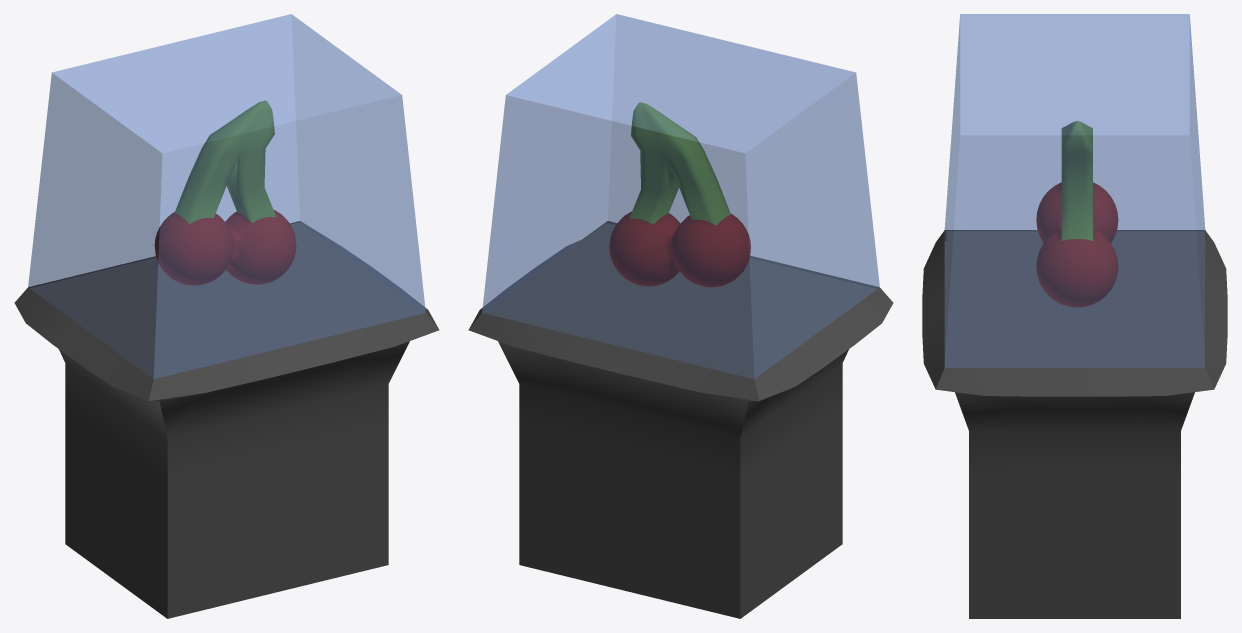
The model's file is CerezaCaja.fbx.
The picture shows the model from 3 angles, left to right: view 1: azimuth 30°, elevation 25°; view 2: azimuth 150°, elevation 25°; view 3: azimuth 270°, elevation 25°; orthographic projection. The views are drawn at different scales.
Parts seen in each view (by area): view 1: Box001, Plane001, Sphere001; view 2: Box001, Plane001, Sphere001; view 3: Box001, Plane001, Sphere001.
Boxes of the visible parts, box(x1,y1,x2,y2) form: Box001: box(14, 14, 439, 618); Plane001: box(30, 222, 423, 378); Sphere001: box(154, 100, 296, 285); Box001: box(468, 14, 893, 618); Plane001: box(484, 223, 876, 378); Sphere001: box(609, 102, 750, 287); Box001: box(922, 14, 1227, 618); Plane001: box(947, 231, 1204, 367); Sphere001: box(1036, 121, 1118, 307).
Bounding box in the file's own units: 28.33 × 39.97 × 22.66.
